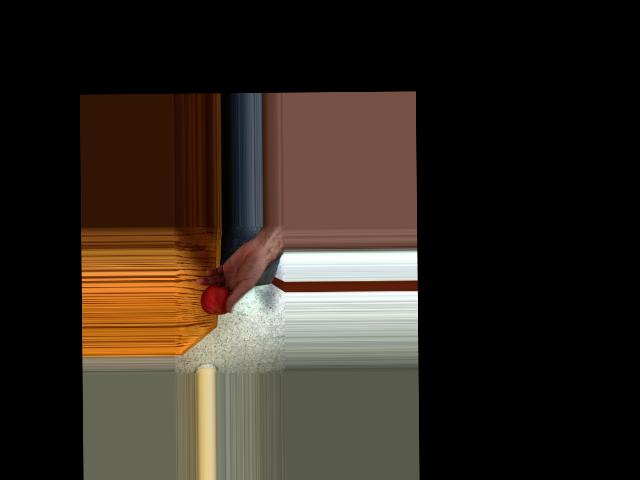apple: (199, 282, 230, 317)
